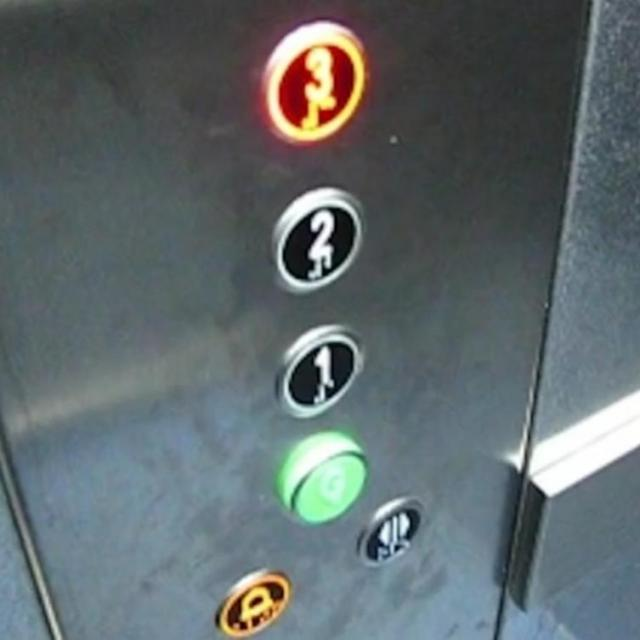1: (270, 320, 372, 422)
2: (264, 177, 370, 300)
3: (255, 13, 376, 151)
alarm: (209, 561, 296, 639)
call: (274, 427, 369, 528)
open: (352, 494, 429, 570)
